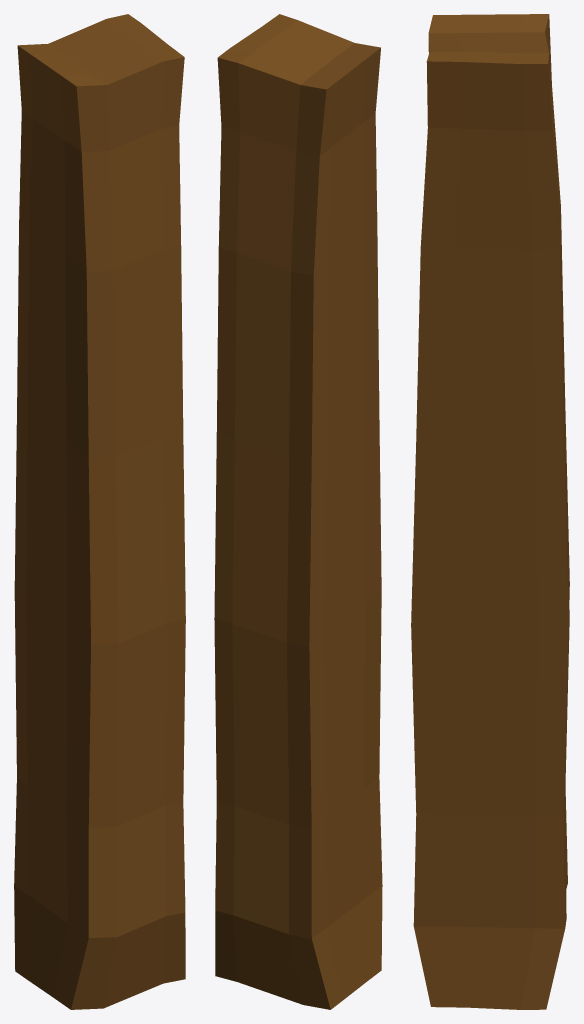
The model's file is beam.fbx.
The picture shows the model from 3 angles, left to right: view 1: azimuth 30°, elevation 25°; view 2: azimuth 150°, elevation 25°; view 3: azimuth 270°, elevation 25°; orthographic projection. The views are drawn at different scales.
Visible parts, largest first — view 1: beam; view 2: beam; view 3: beam.
Part boxes in pixels (x1,y1,x2,y2): beam: (14, 14, 185, 1009); beam: (214, 14, 382, 1009); beam: (411, 14, 569, 1009).
Size of the model in its own units: 90.59 by 692 by 104.
